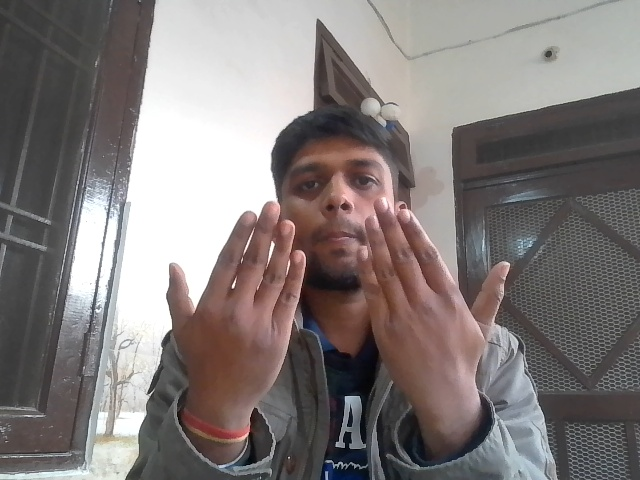ThankYou: (155, 195, 533, 429)
